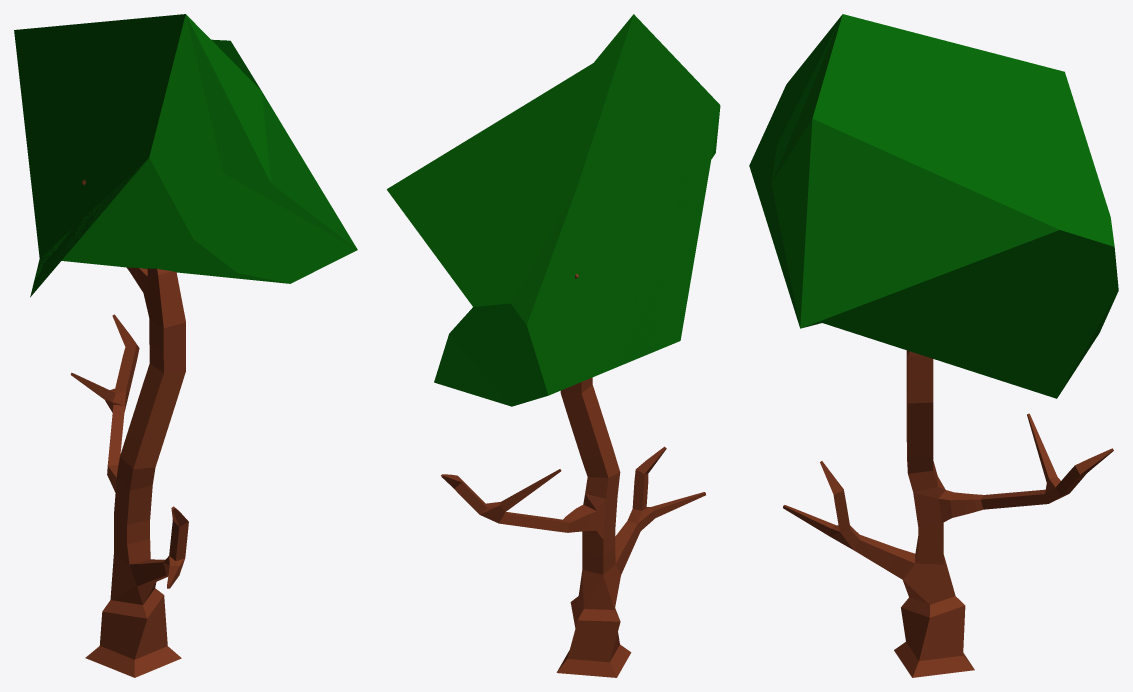
Rendered from treeUp.fbx.
3 views of the same model, side by side, from view 1: azimuth 30°, elevation 25°; view 2: azimuth 150°, elevation 25°; view 3: azimuth 270°, elevation 25° (orthographic). The views are drawn at different scales.
Visible parts, largest first — view 1: Cube.002, Plane; view 2: Cube.002, Plane; view 3: Cube.002, Plane.
Part boxes in pixels (x1=…): Cube.002: x1=14, y1=14, x2=357, y2=297; Plane: x1=70, y1=180, x2=188, y2=677; Cube.002: x1=387, y1=14, x2=720, y2=406; Plane: x1=441, y1=274, x2=705, y2=677; Cube.002: x1=749, y1=14, x2=1118, y2=398; Plane: x1=783, y1=350, x2=1113, y2=677.
Size of the model in its own units: 138 by 340 by 176.
